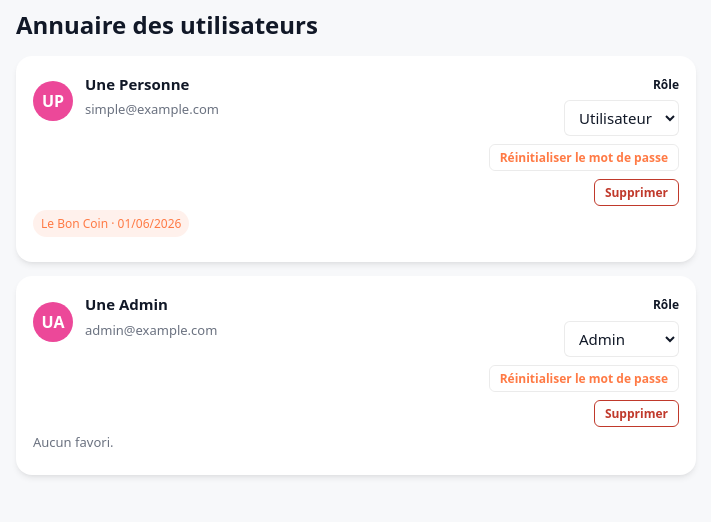
Test: UtilisateursPage › affiche une erreur si la suppression d'un utilisateur échoue
The width and height of the screenshot is (711, 522).
Expected: the heading "Une Personne" is shown, 85,74 -> 189,94
Click the 2nd button "Supprimer". click: click(636, 413)
box: 594,400 -> 679,427
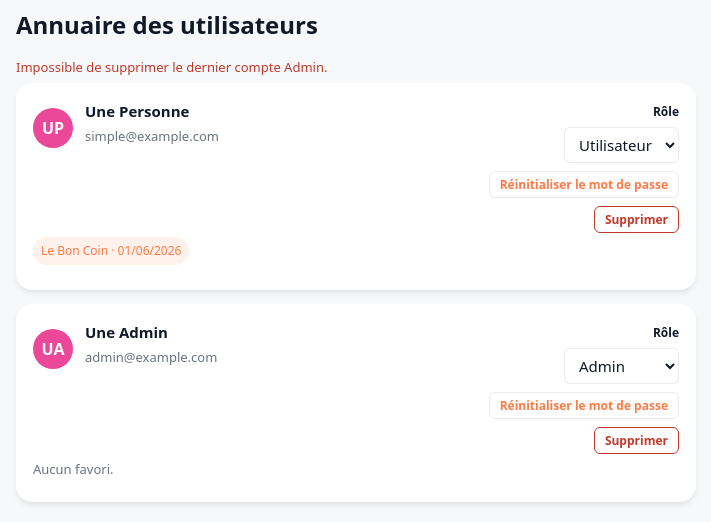
Result: the text "Impossible de supprimer le dernier compte Admin." is shown at 16,58 -> 327,76
